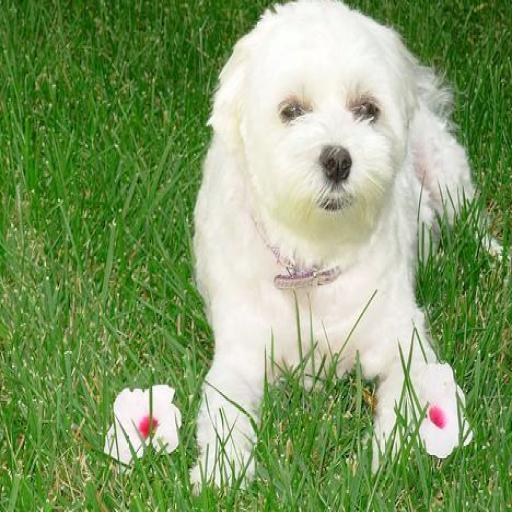dog_face: (227, 16, 408, 218)
